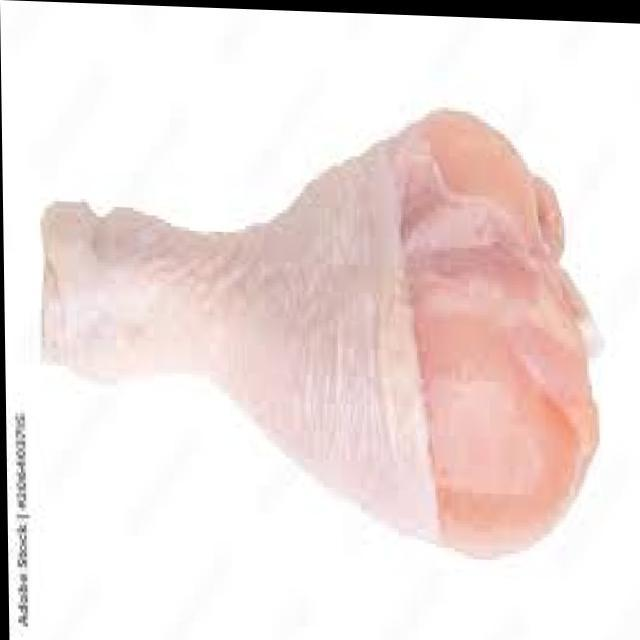leg: (37, 86, 610, 579)
